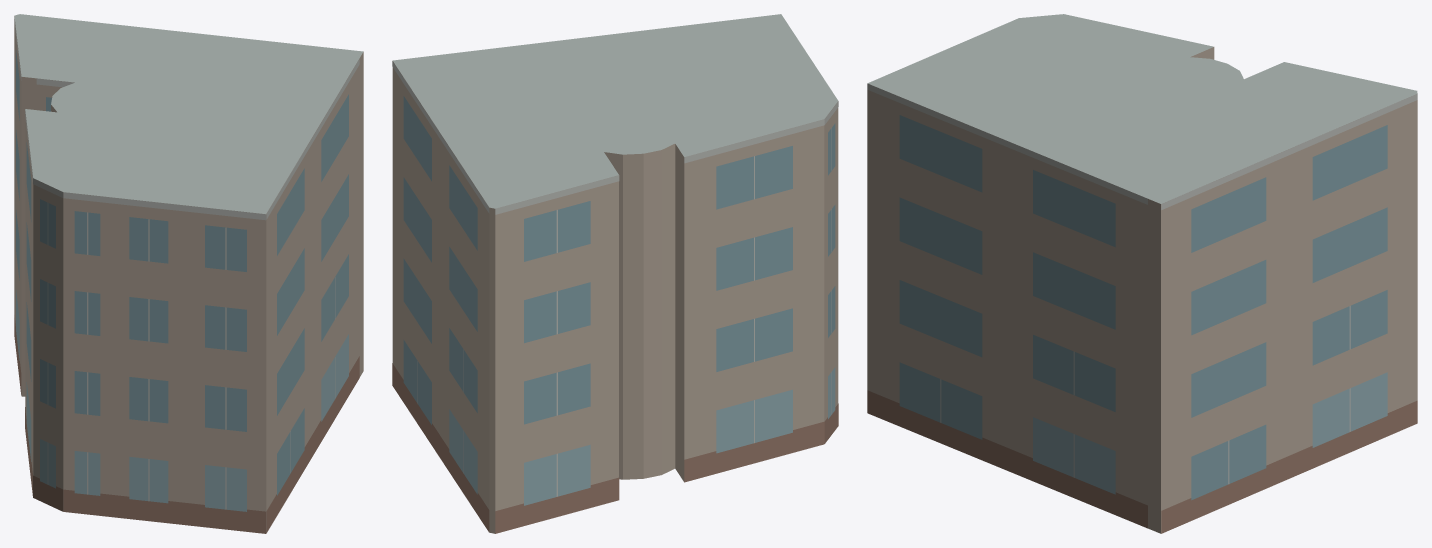
File: survey-upis-32739047.glb
3 views of the same model, side by side, from view 1: azimuth 30°, elevation 25°; view 2: azimuth 150°, elevation 25°; view 3: azimuth 270°, elevation 25° (orthographic). The views are drawn at different scales.
Parts seen in each view (by area): view 1: survey-upis-32739047.tmp; view 2: survey-upis-32739047.tmp; view 3: survey-upis-32739047.tmp.
Part boxes in pixels (<box>): survey-upis-32739047.tmp: <box>14,14,363,533</box>; survey-upis-32739047.tmp: <box>392,14,838,533</box>; survey-upis-32739047.tmp: <box>867,14,1417,533</box>.
Bounding box in the file's own units: 15.83 × 12.8 × 19.36.
